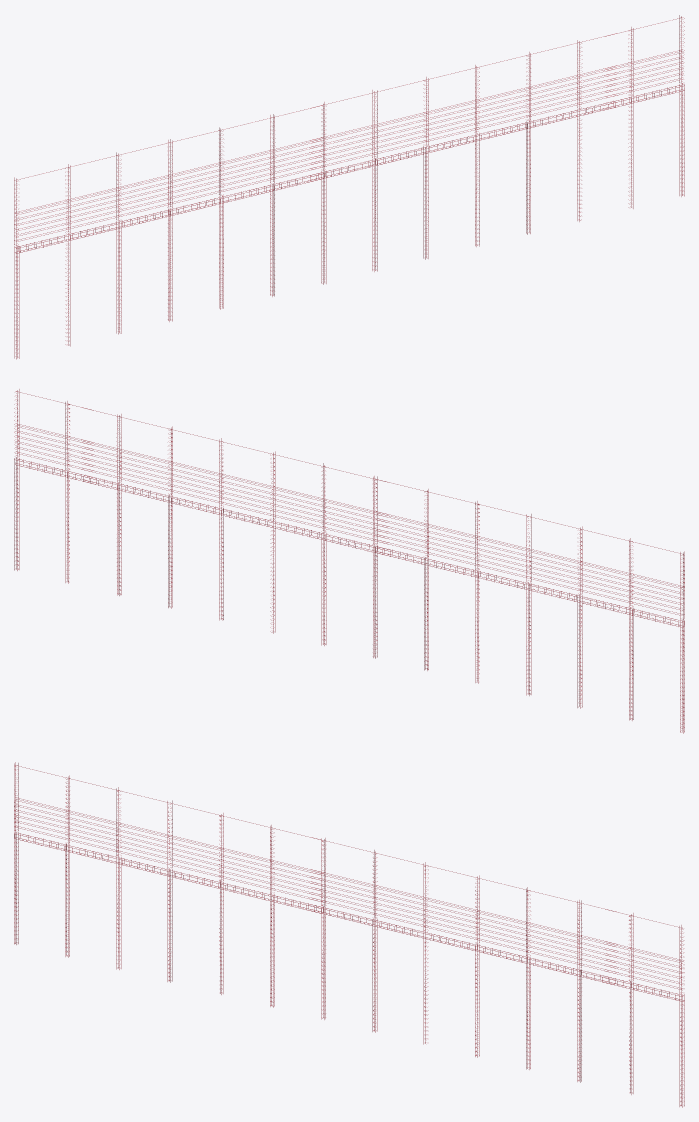
Rendered from armaduras-maquete.glb.
3 views of the same model, one above another, from view 1: azimuth 30°, elevation 25°; view 2: azimuth 150°, elevation 25°; view 3: azimuth 330°, elevation 25° (orthographic).
Parts seen in each view (by area): view 1: steel; view 2: steel; view 3: steel.
Boxes of the visible parts, x1,y1,x2,y2 form: steel: (14, 15, 684, 359); steel: (14, 389, 684, 733); steel: (14, 762, 684, 1107).
Bounding box in the file's own units: 0.3268 × 0.0846 × 0.00181.
